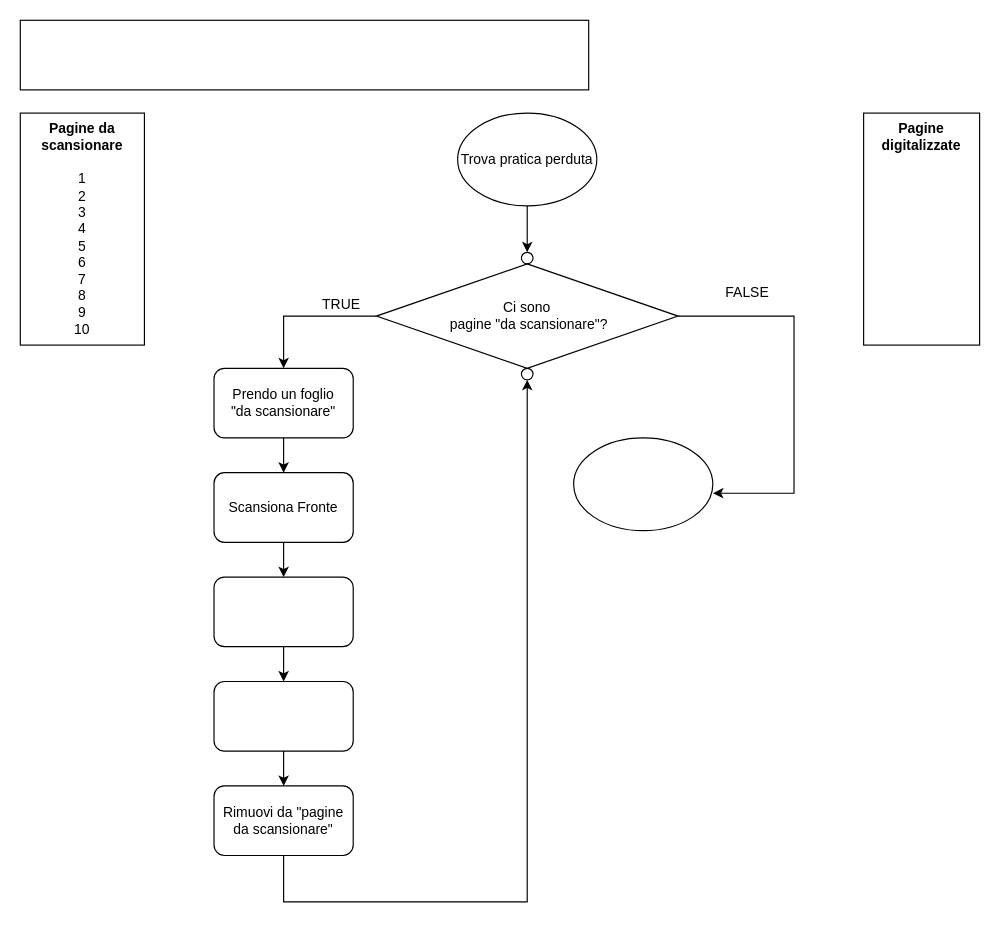
The diagram is 1000 pixels wide and 931 high, and some of its shapes have lost their labels. The centre of each missing label's shape, as x and y in pixels:
Annota pagina come "digitalizzata": (283,715)
Pratica Scansionata: (642,484)
Scansiona retro: (283,611)
Scansionare documento fronte-retro: (304,54)
